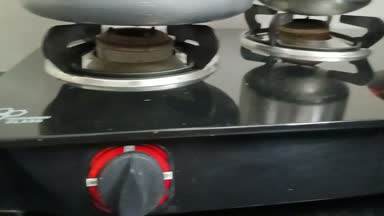noflame_gason: (37, 16, 224, 216)
